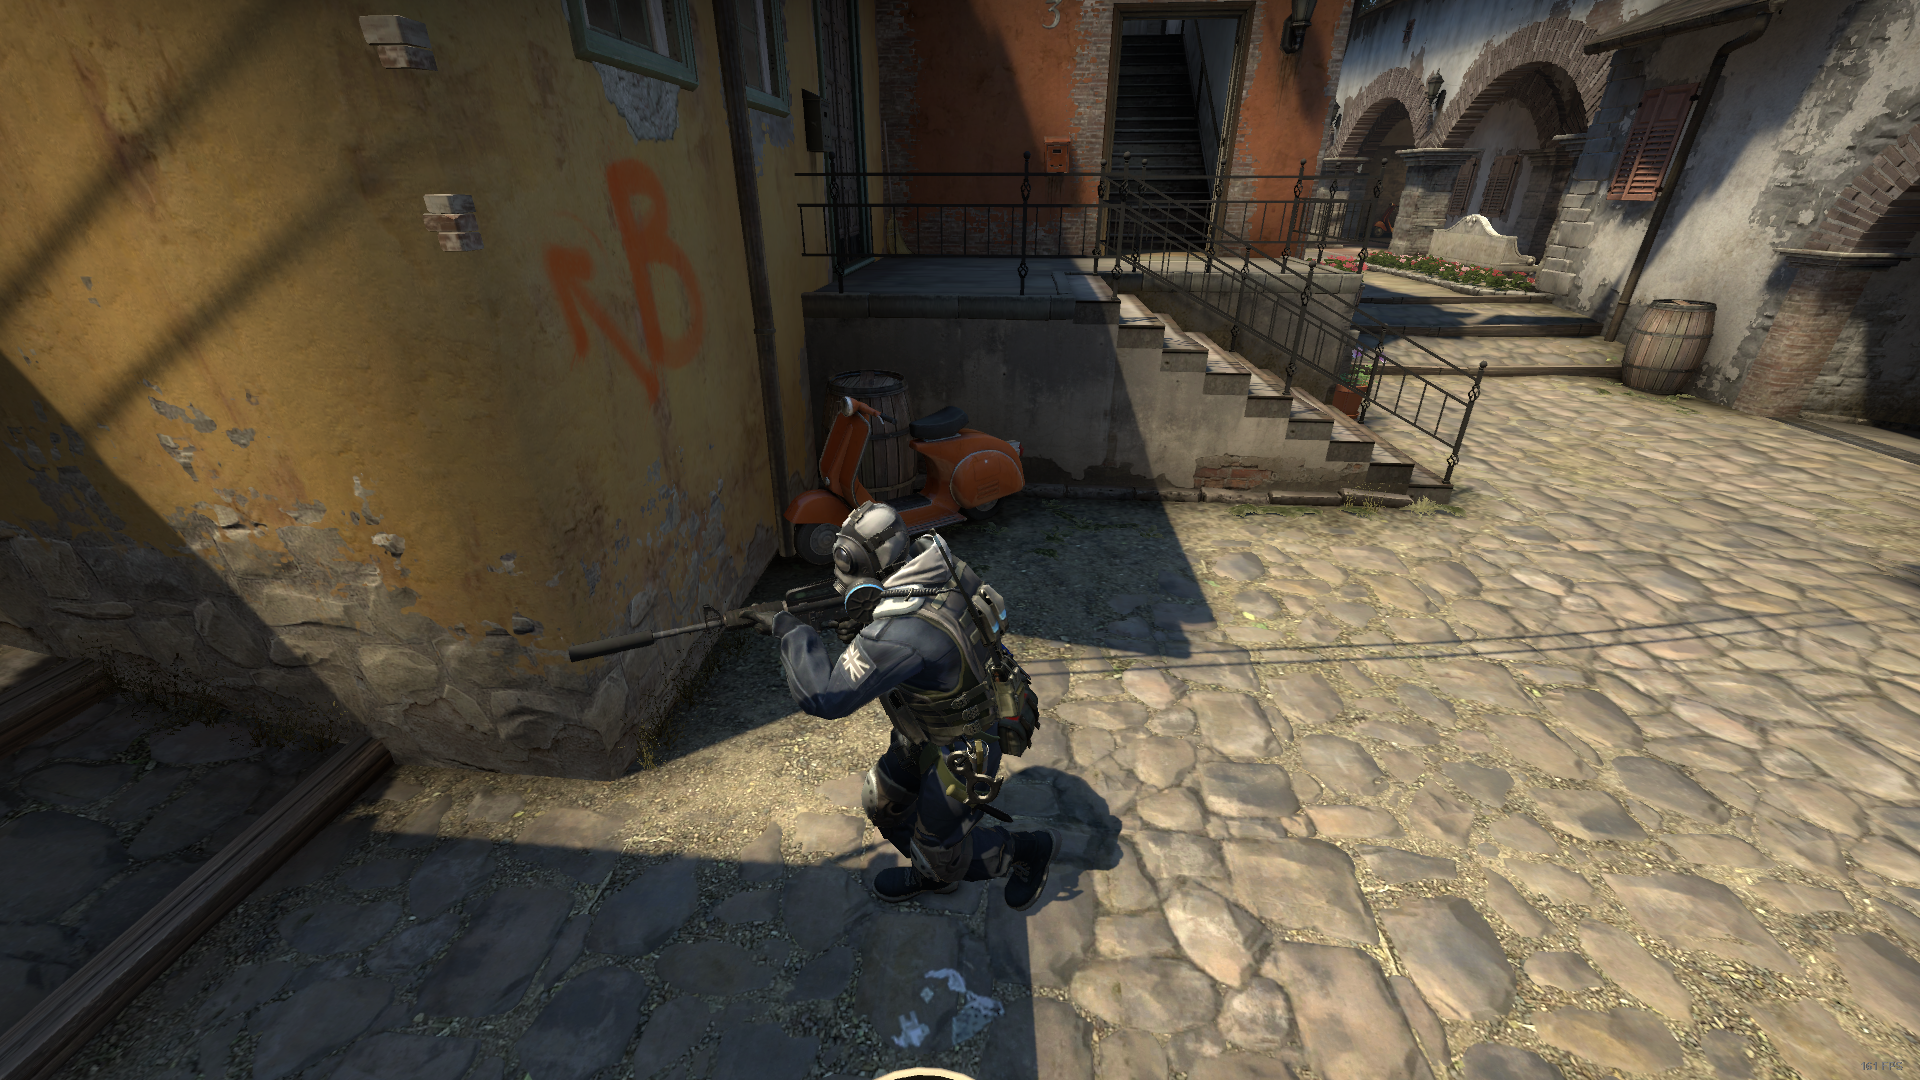ct: (793, 497, 1077, 924)
